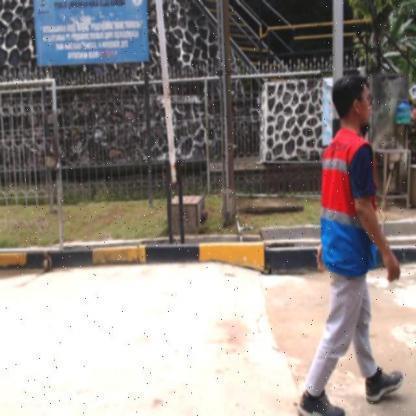boots: (362, 368, 404, 406), (302, 384, 345, 416)
